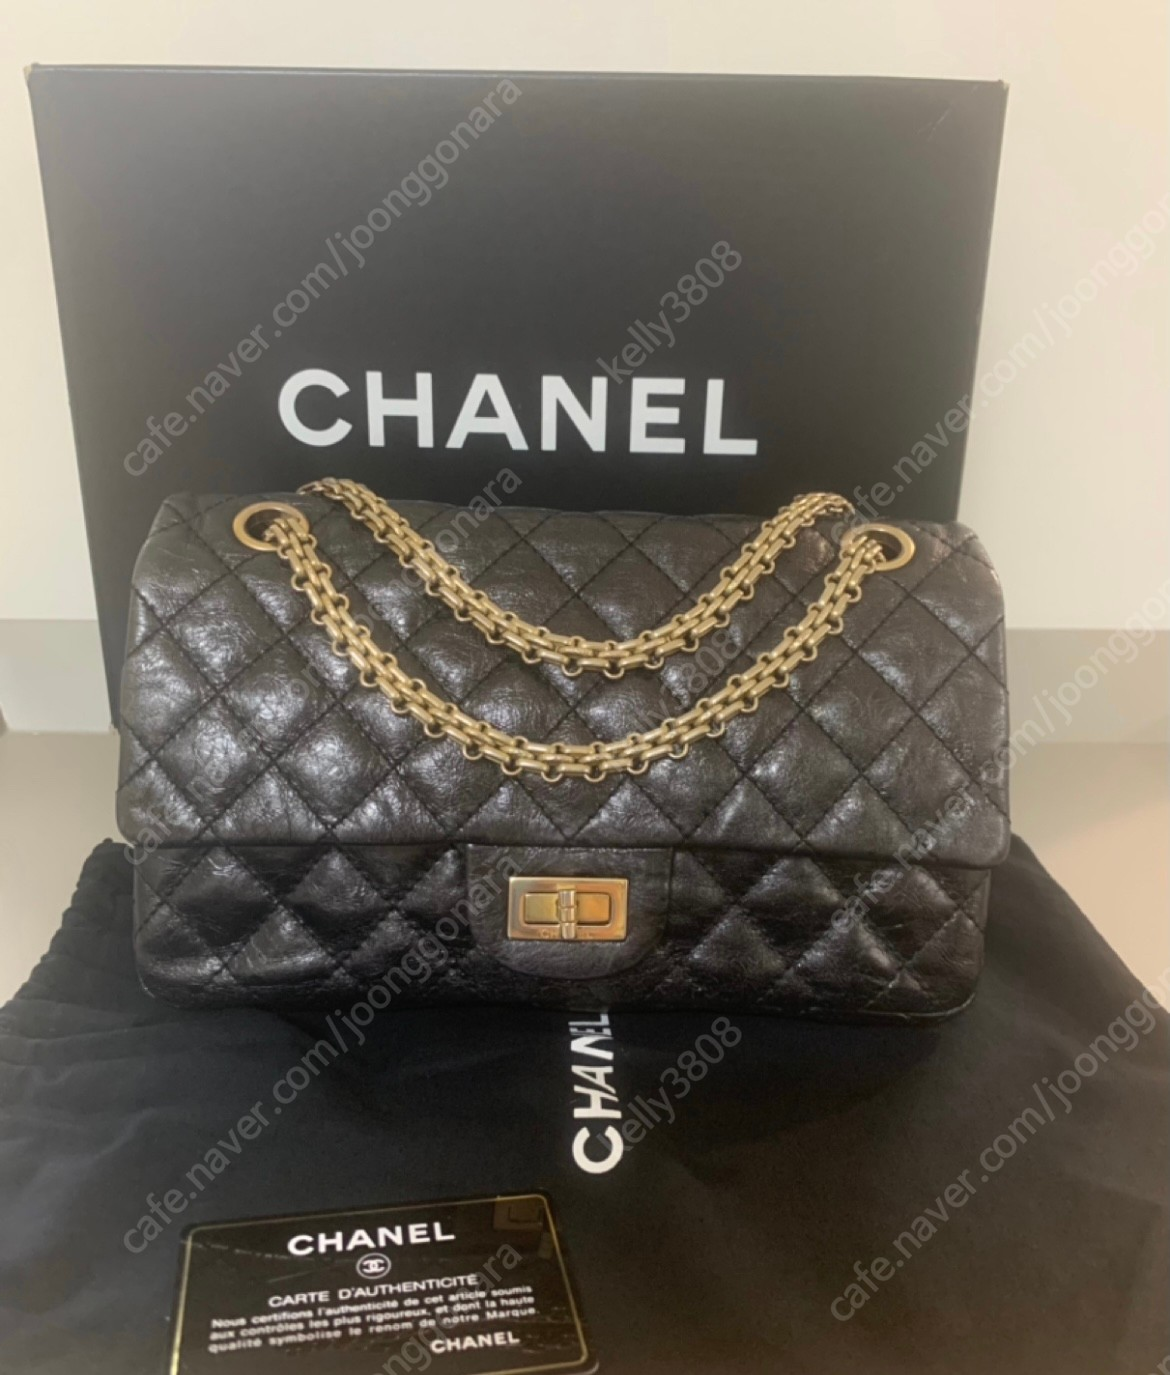channel: (120, 468, 1001, 1045), (248, 519, 450, 748), (716, 799, 919, 977), (501, 866, 679, 974)
